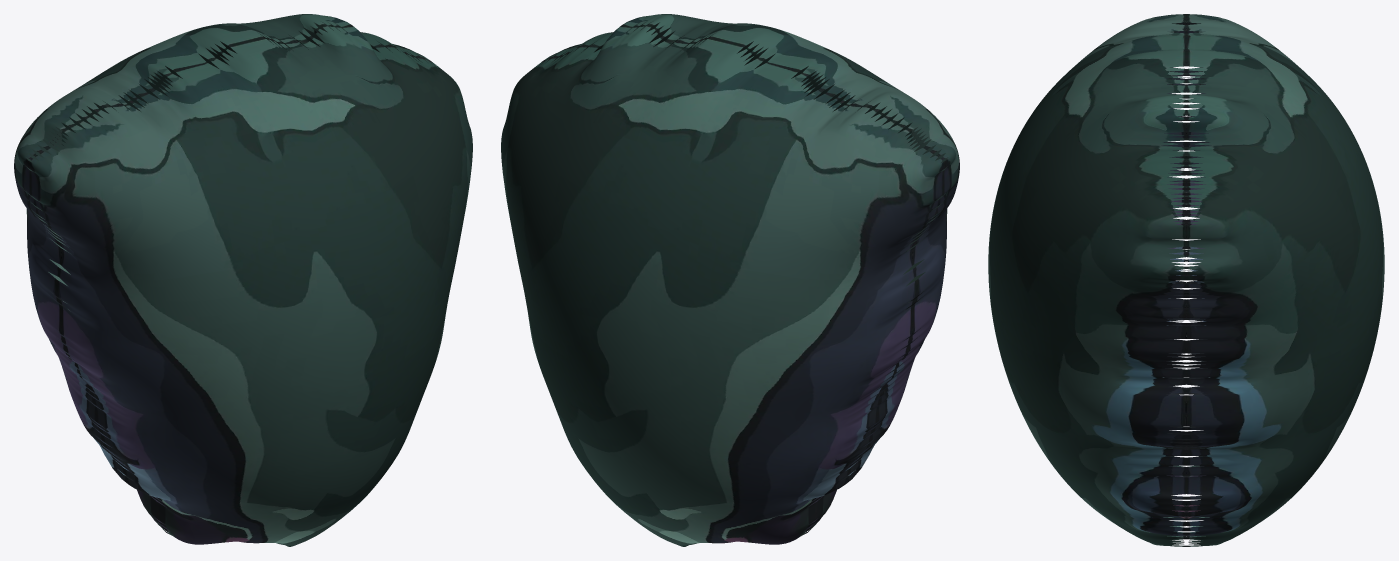
Rendered from teal_cliff.glb.
3 views of the same model, side by side, from view 1: azimuth 30°, elevation 25°; view 2: azimuth 150°, elevation 25°; view 3: azimuth 270°, elevation 25° (orthographic). The views are drawn at different scales.
Visible parts, largest first — view 1: teal_cliff; view 2: teal_cliff; view 3: teal_cliff.
Boxes of the visible parts, left/top/right/bottom form: teal_cliff: left=14, top=14, right=472, bottom=546; teal_cliff: left=501, top=14, right=959, bottom=546; teal_cliff: left=988, top=14, right=1384, bottom=546.
Size of the model in its own units: 0.9874 by 1.1 by 0.8324.
1 material, 1 textured.
